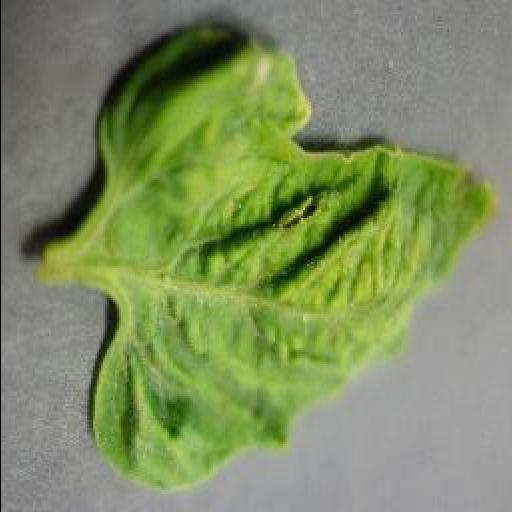disease_tomato: (88, 20, 494, 496)
